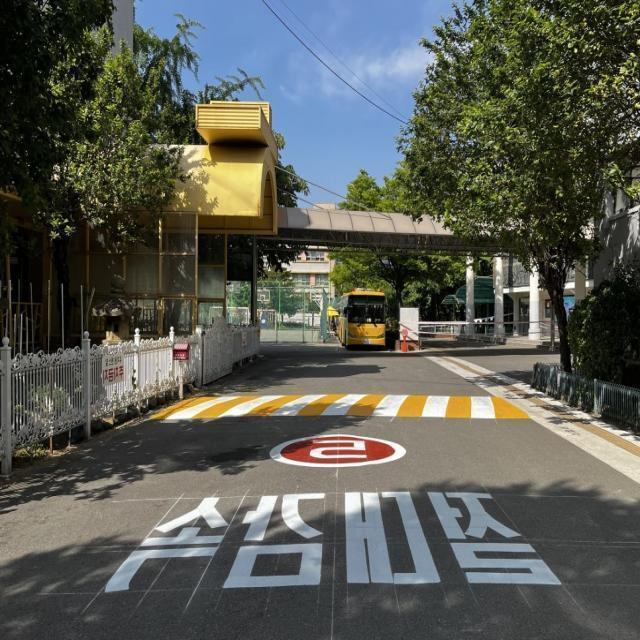speedbreaker: (136, 388, 538, 430)
